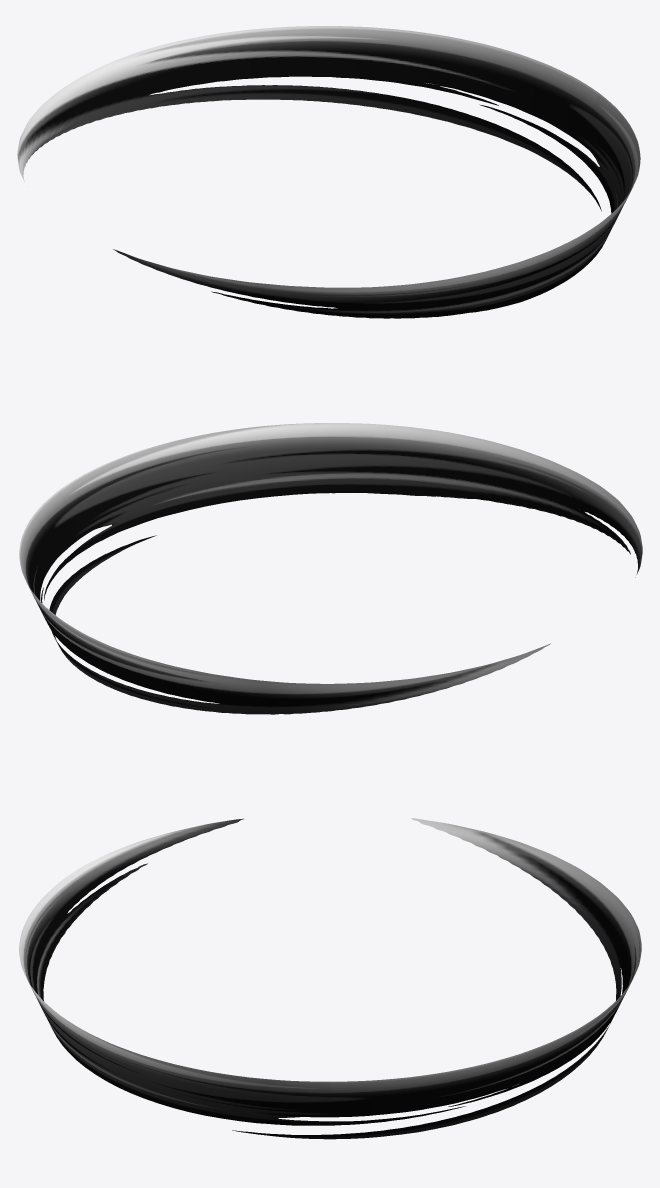
File: eff_Spark06.fbx
3 renders of one model, top to bottom at view 1: azimuth 30°, elevation 25°; view 2: azimuth 150°, elevation 25°; view 3: azimuth 270°, elevation 25°, orthographic.
Parts seen in each view (by area): view 1: eff_Spark06_front_msh, eff_Spark06_rear_msh; view 2: eff_Spark06_rear_msh, eff_Spark06_front_msh; view 3: eff_Spark06_front_msh, eff_Spark06_rear_msh.
Boxes of the visible parts, left/top/right/bottom form: eff_Spark06_front_msh: left=17, top=26, right=598, bottom=181; eff_Spark06_rear_msh: left=113, top=93, right=640, bottom=318; eff_Spark06_rear_msh: left=61, top=423, right=642, bottom=577; eff_Spark06_front_msh: left=19, top=489, right=550, bottom=714; eff_Spark06_front_msh: left=330, top=818, right=641, bottom=1139; eff_Spark06_rear_msh: left=19, top=818, right=329, bottom=1139.
Bounding box in the file's own units: 9 × 2 × 9.
